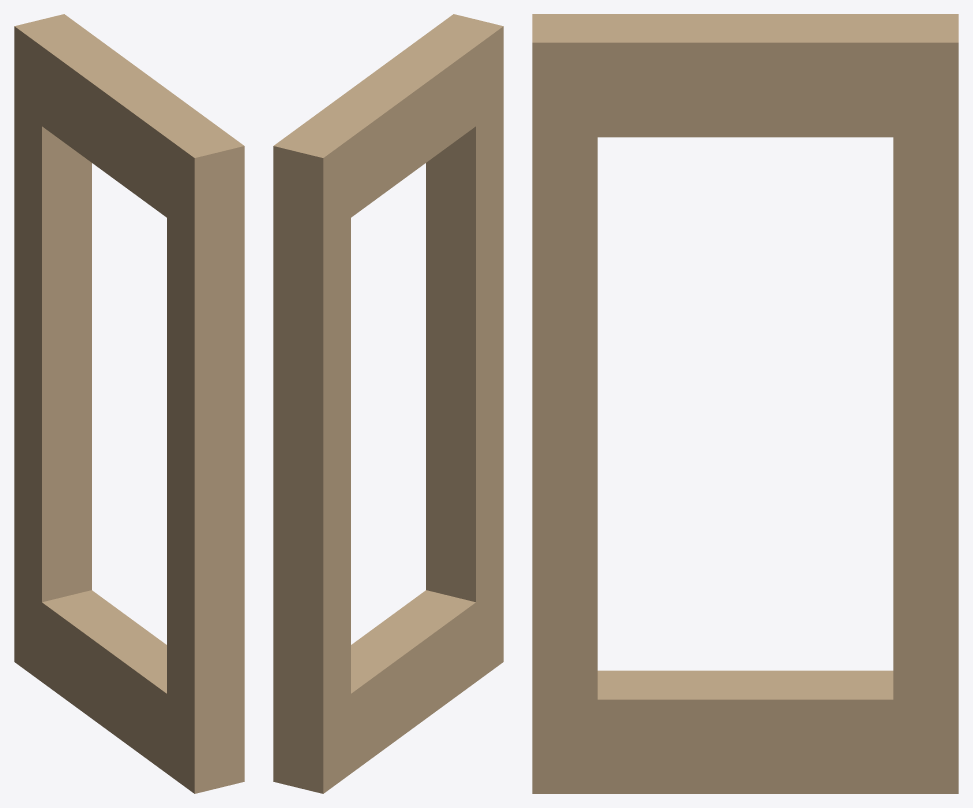
File: Building Frame 3.fbx
3 renders of one model, left to right at view 1: azimuth 30°, elevation 25°; view 2: azimuth 150°, elevation 25°; view 3: azimuth 270°, elevation 25°, orthographic. The views are drawn at different scales.
Parts seen in each view (by area): view 1: Building Frame 3; view 2: Building Frame 3; view 3: Building Frame 3.
Boxes of the visible parts, box(x1,y1,x2,y2) form: Building Frame 3: box(14, 14, 244, 793); Building Frame 3: box(273, 14, 503, 793); Building Frame 3: box(532, 14, 958, 793).
Bounding box in the file's own units: 0.05 × 0.608 × 0.3125.
